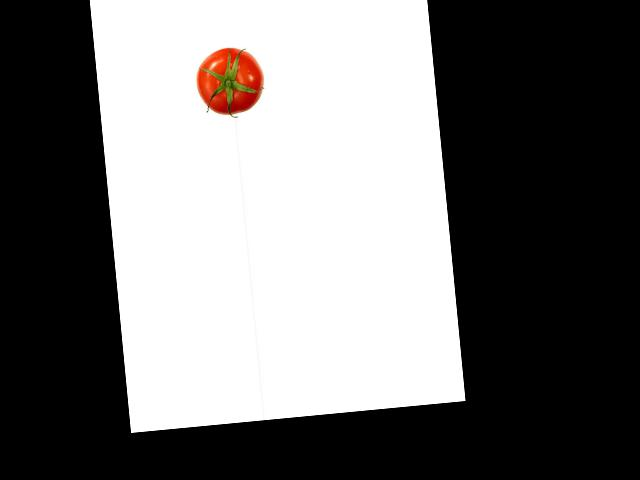tomato: (194, 44, 266, 117)
